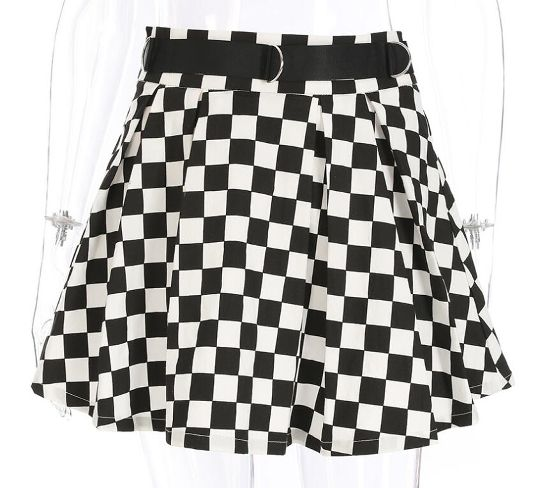squared: (25, 19, 522, 461)
